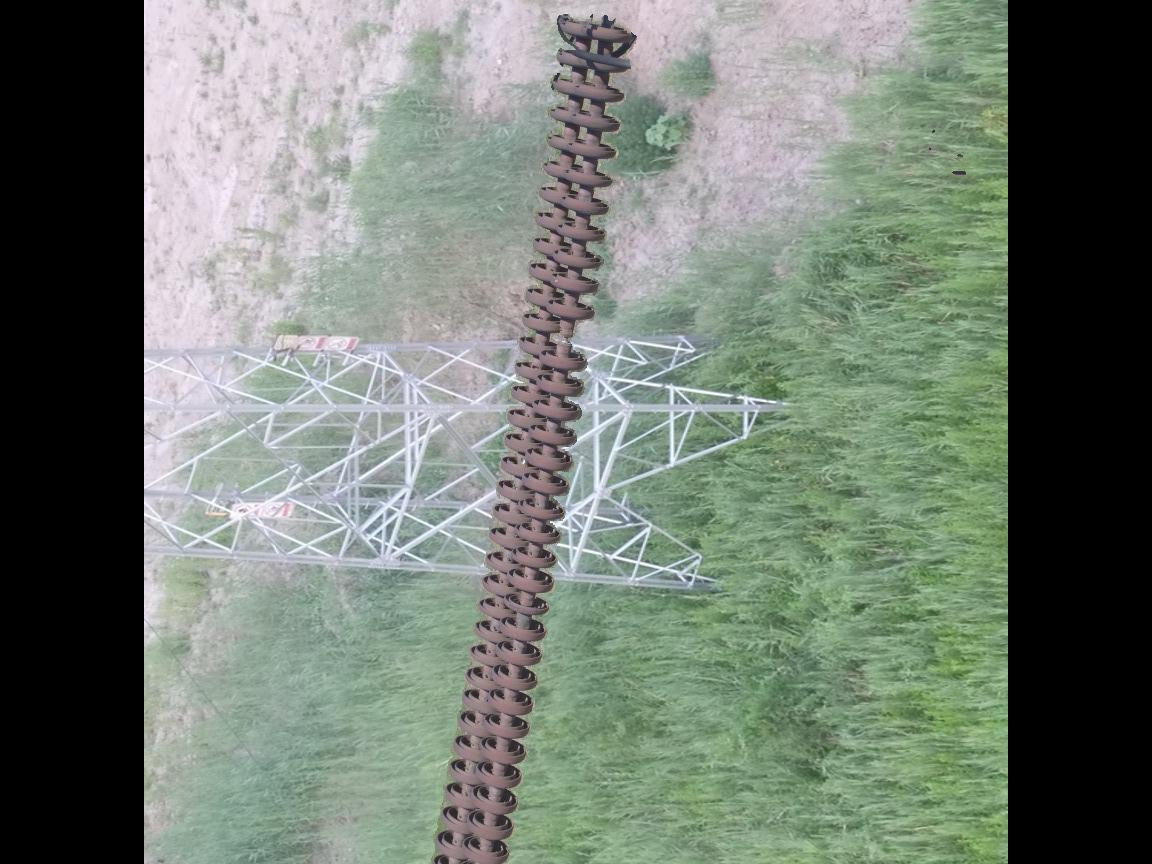insulator: (423, 12, 636, 864)
insulator_stringdrop: (534, 297, 596, 374)
